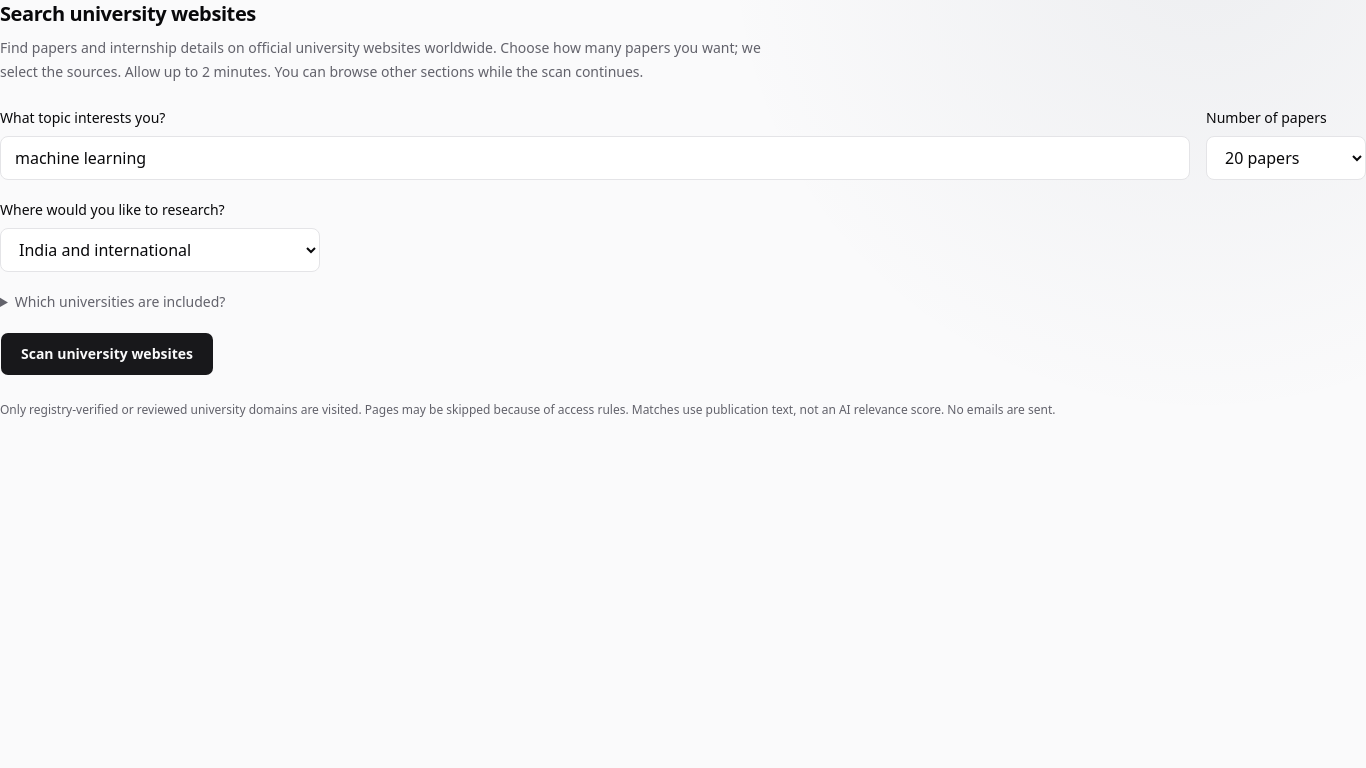
submits the chosen paper target and keeps unknown work mode explicit
Select "30 papers" in the dropdown labelled "Number of papers": (1286, 158) [1206,136,1365,180]
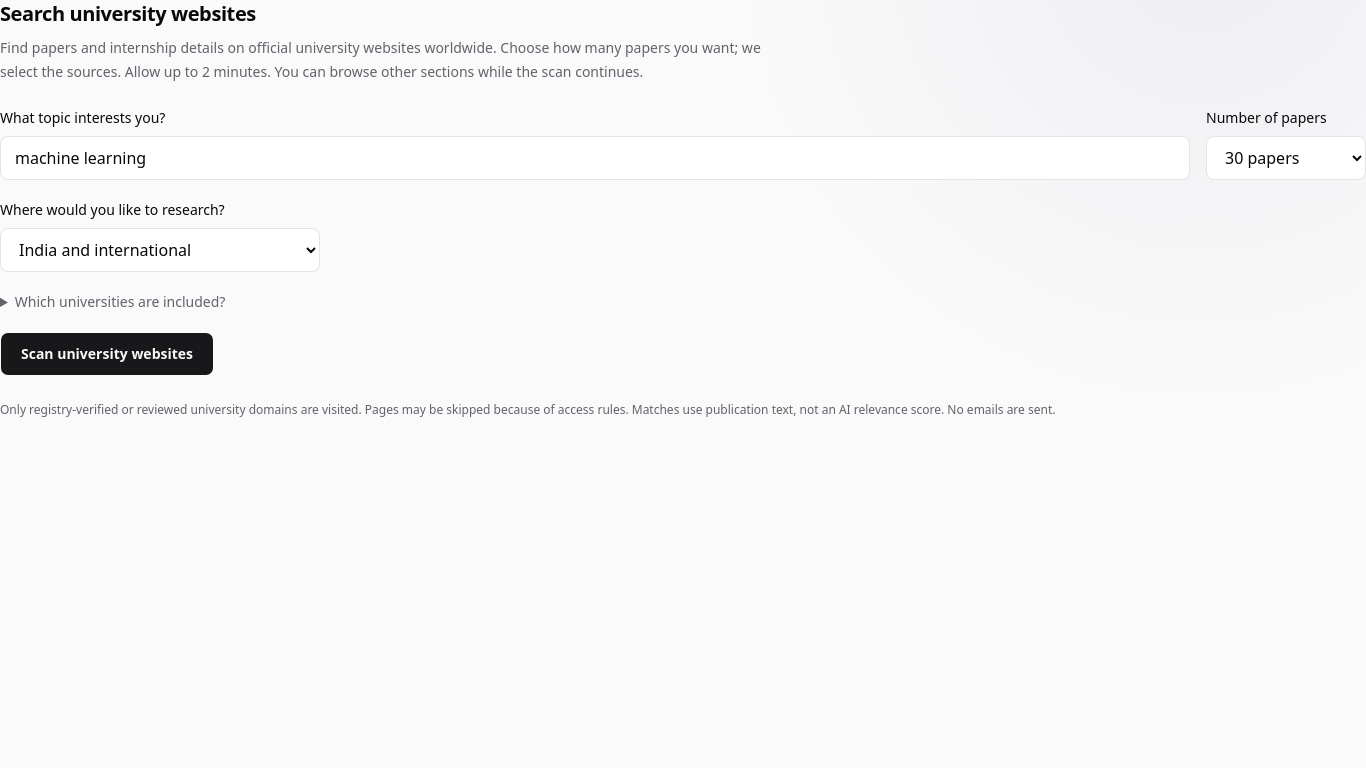
Click the button "Scan university websites": (107, 354) [0,332,214,376]
(page scrolled)
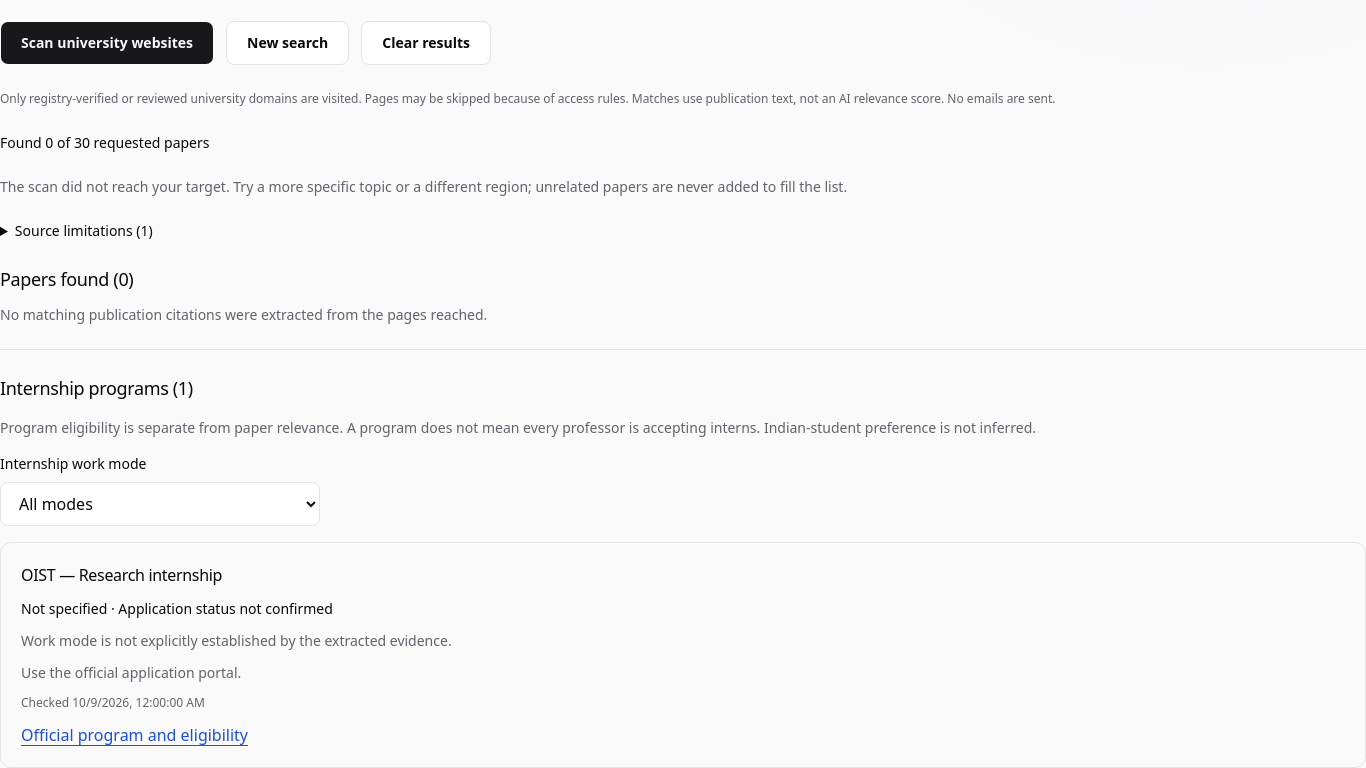
Expected: the text "Found 0 of 30 requested papers" is shown, [0,133,210,152]
Expected: the text "Not specified · Application status not confirmed" is shown, [21,599,333,618]
Expected: the text "Work mode is not explicitly established" is shown, [21,631,452,650]
Select "Remote" in the dropdown labelled "Internship work mode": (160, 504) [0,482,320,526]
(page scrolled)
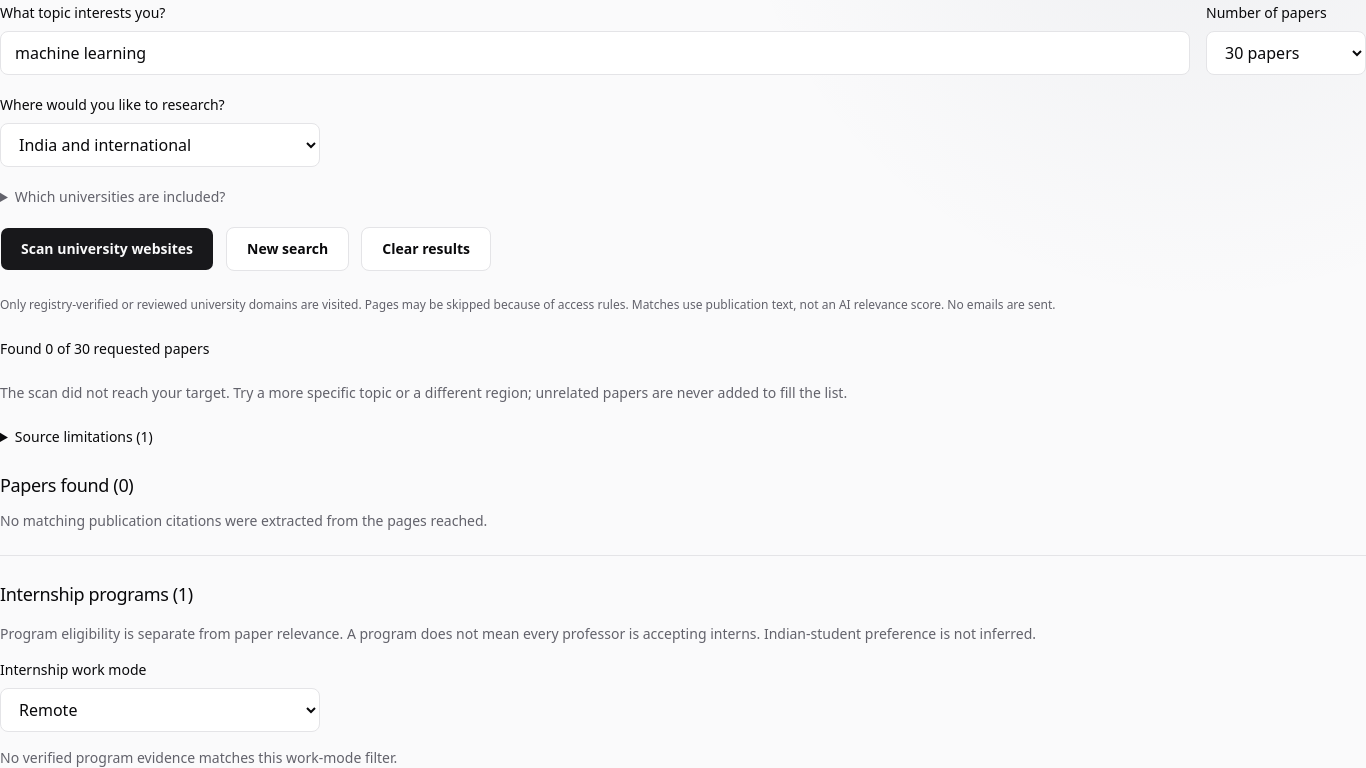
Expected: the heading "OIST — Research internship" is gone
Expected: the text "No verified program evidence matches this work-mode filter." is shown, [0,748,397,767]
